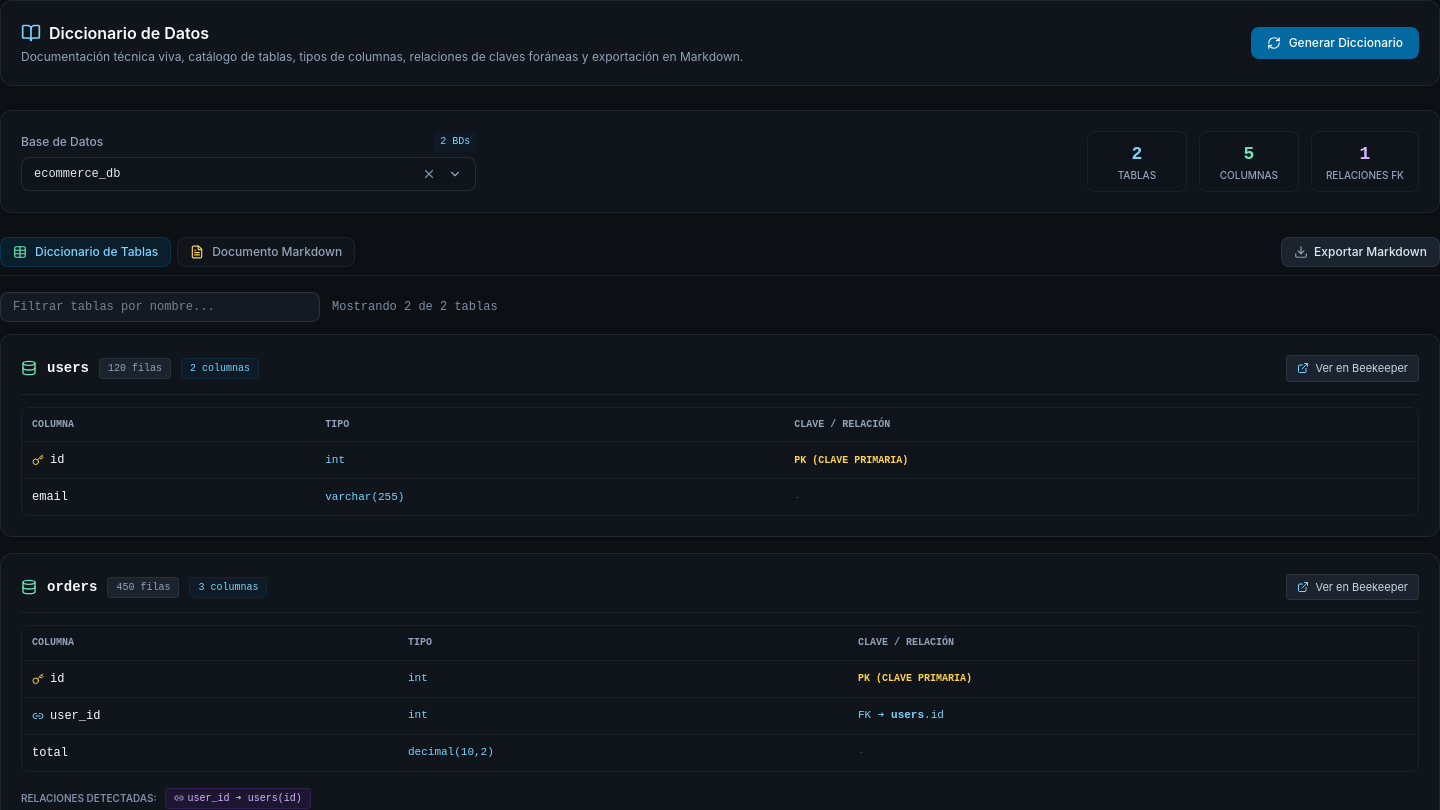
Test: DataDictionaryTab › switches between Dictionary and Markdown views
The image size is (1440, 810).
Click the button "Documento Markdown": (266, 252) [177, 237, 355, 267]
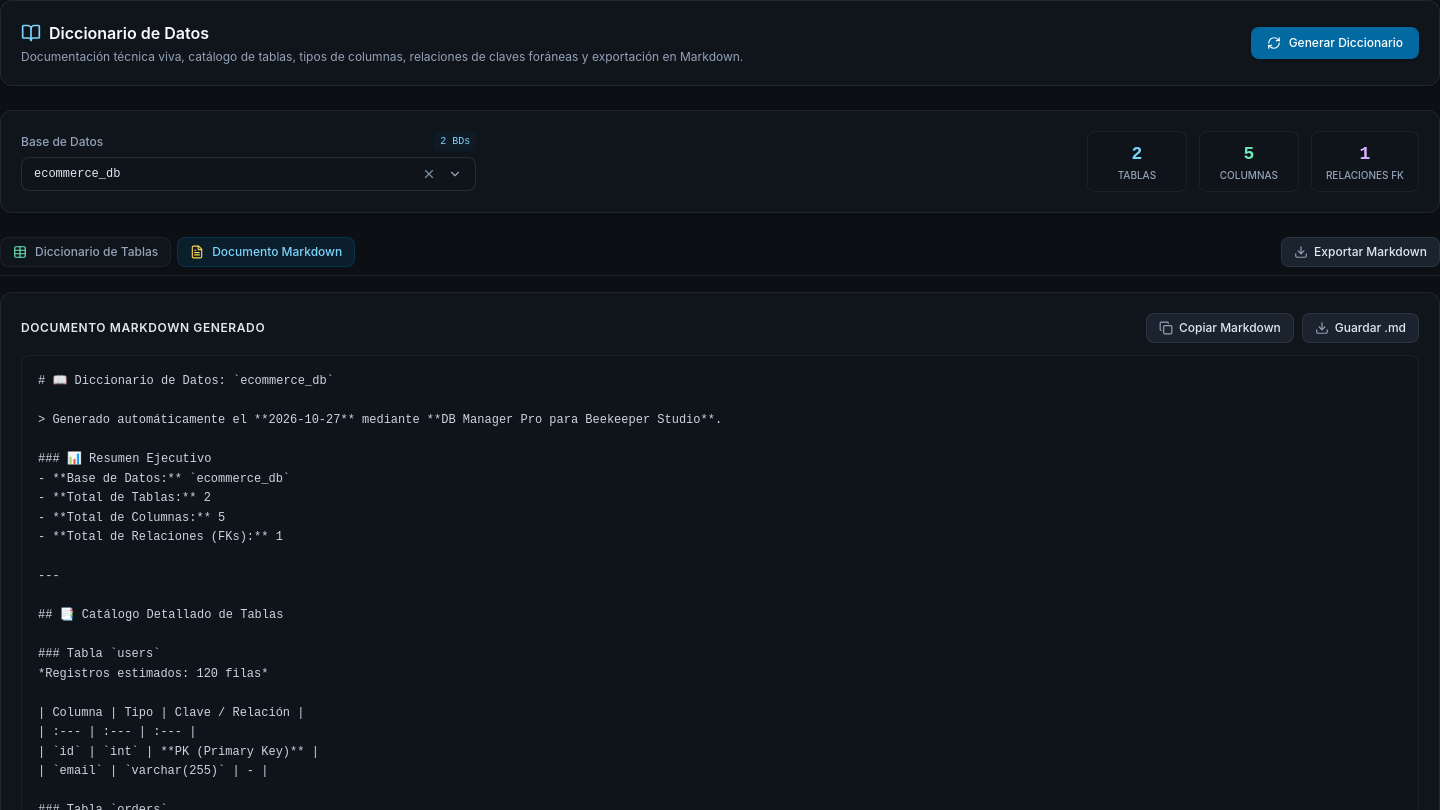
Click the button "Diccionario de Tablas": (86, 252) [0, 237, 171, 267]
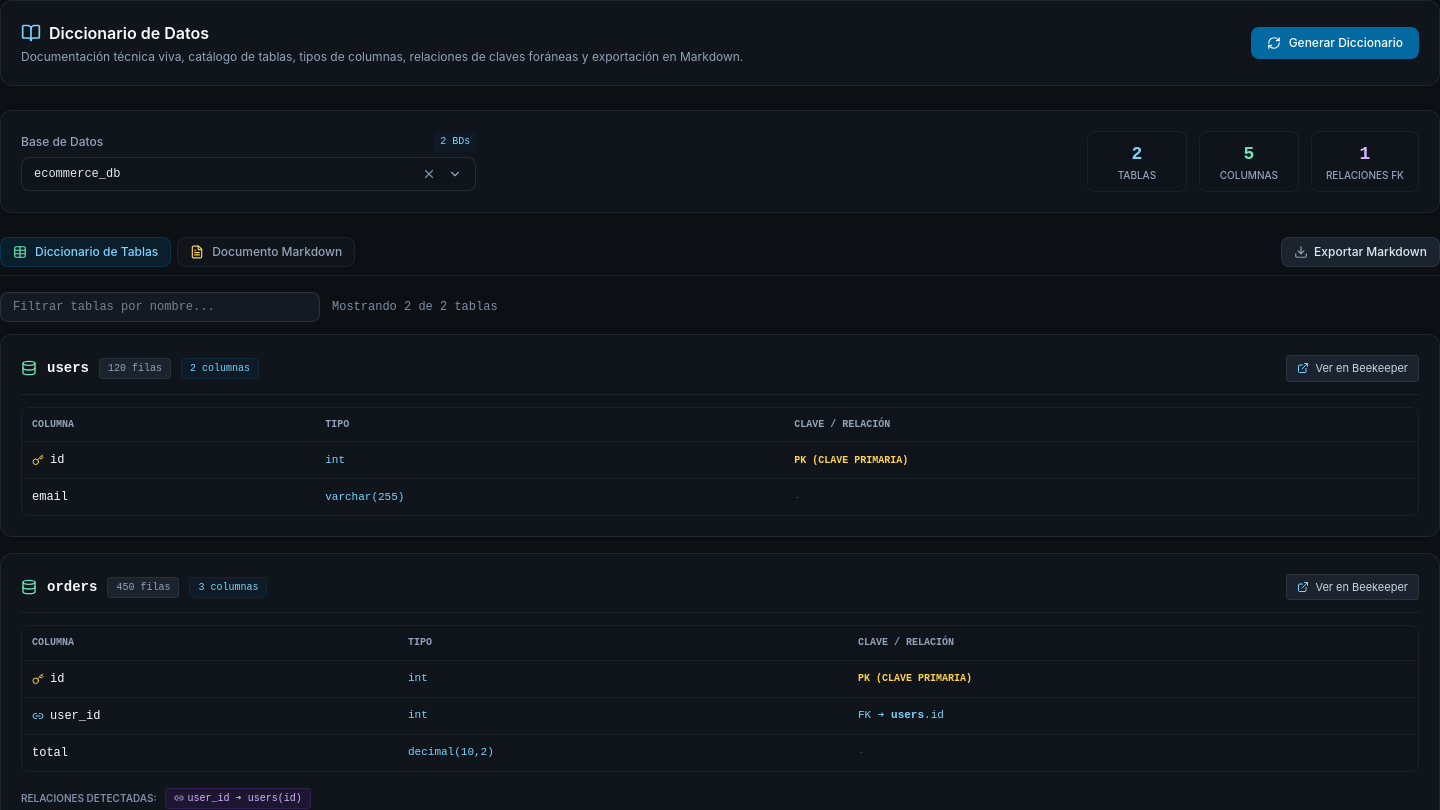
Expected: the text "Mostrando 2 de 2 tablas" is shown, [332, 299, 498, 315]
